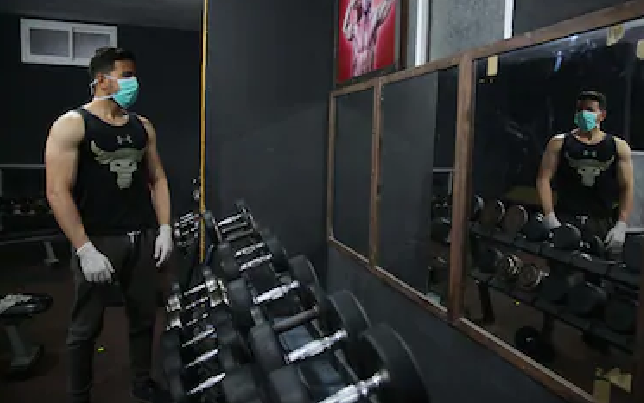with_mask: (88, 47, 143, 112)
